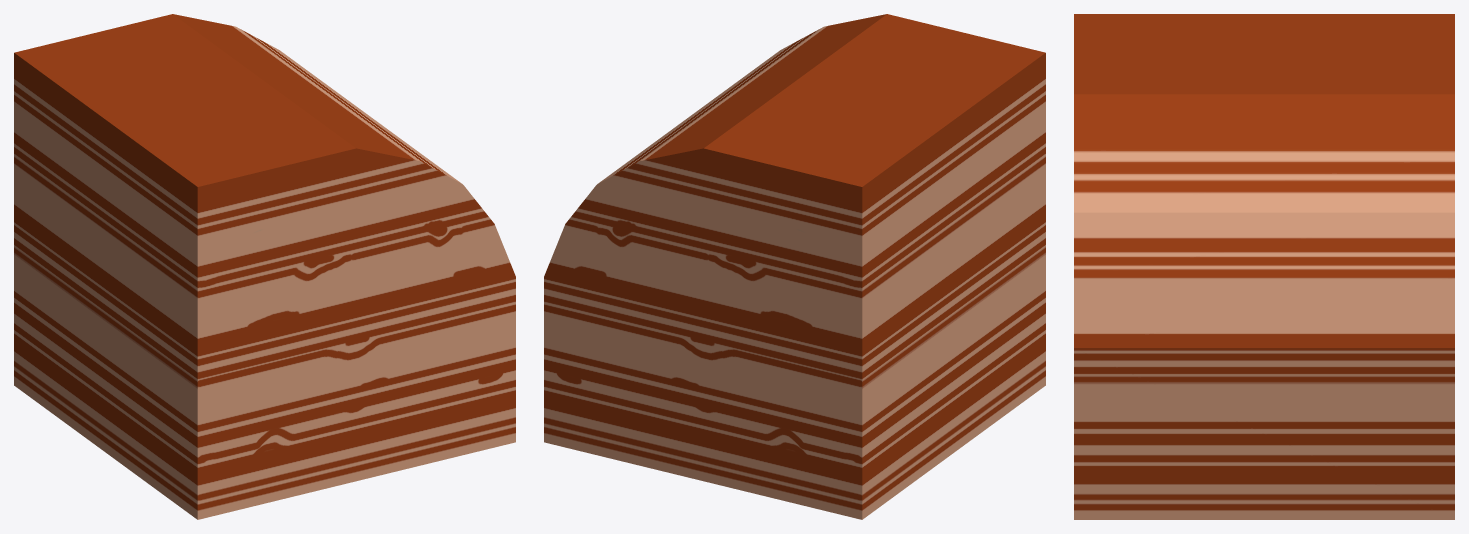
The model's file is sanstoneTILE-2mx2m-CURVEDEDGE.glb.
The picture shows the model from 3 angles, left to right: view 1: azimuth 30°, elevation 25°; view 2: azimuth 150°, elevation 25°; view 3: azimuth 270°, elevation 25°; orthographic projection. The views are drawn at different scales.
Visible parts, largest first — view 1: Cube.004; view 2: Cube.004; view 3: Cube.004.
Part boxes in pixels (<box>): Cube.004: <box>14,14,515,519</box>; Cube.004: <box>544,14,1045,519</box>; Cube.004: <box>1074,14,1454,519</box>.
Size of the model in its own units: 2 by 2 by 2.
1 material, 1 textured.
